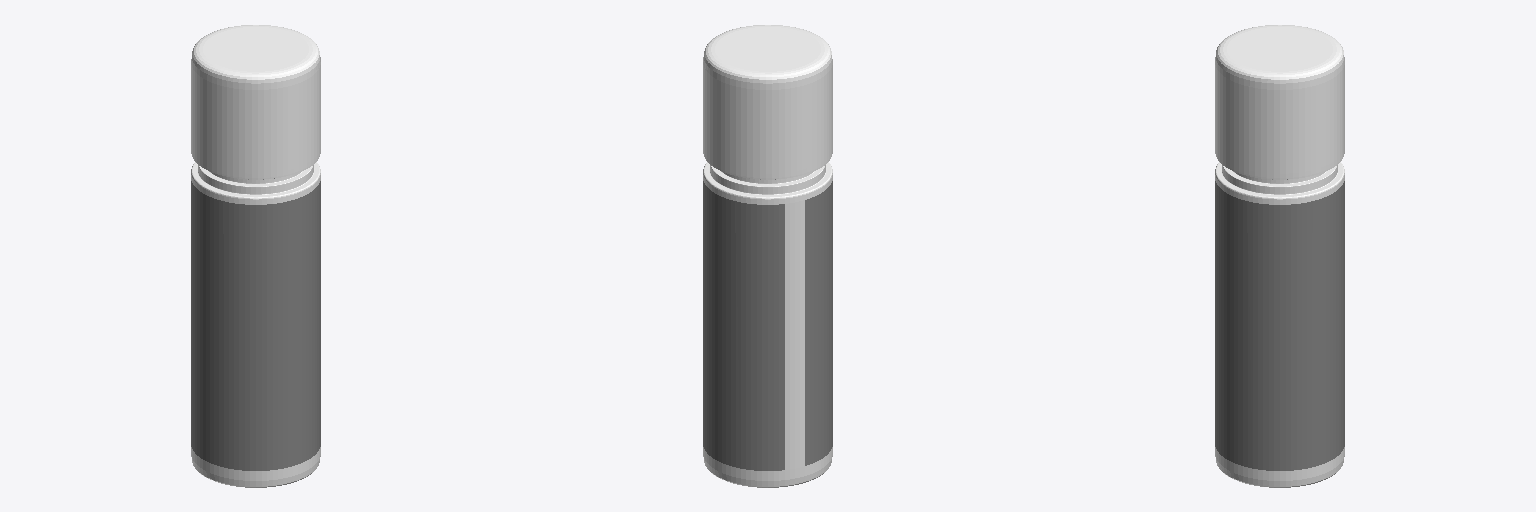
File: najmanjsa.obj
3 views of the same model, side by side, from view 1: azimuth 30°, elevation 25°; view 2: azimuth 150°, elevation 25°; view 3: azimuth 270°, elevation 25° (orthographic).
Visible parts, largest first — view 1: nalepka, Cylinder002, Cylinder001; view 2: nalepka, Cylinder002, Cylinder001; view 3: nalepka, Cylinder002, Cylinder001.
Part boxes in pixels (left/top/right/bottom): nalepka: left=191, top=181, right=320, bottom=470; Cylinder002: left=191, top=25, right=320, bottom=179; Cylinder001: left=191, top=162, right=320, bottom=487; nalepka: left=703, top=181, right=832, bottom=470; Cylinder002: left=703, top=25, right=832, bottom=179; Cylinder001: left=703, top=162, right=832, bottom=487; nalepka: left=1215, top=181, right=1344, bottom=470; Cylinder002: left=1215, top=25, right=1344, bottom=179; Cylinder001: left=1215, top=162, right=1344, bottom=487.
Bounding box in the file's own units: 0.2942 × 1.03 × 0.2942.